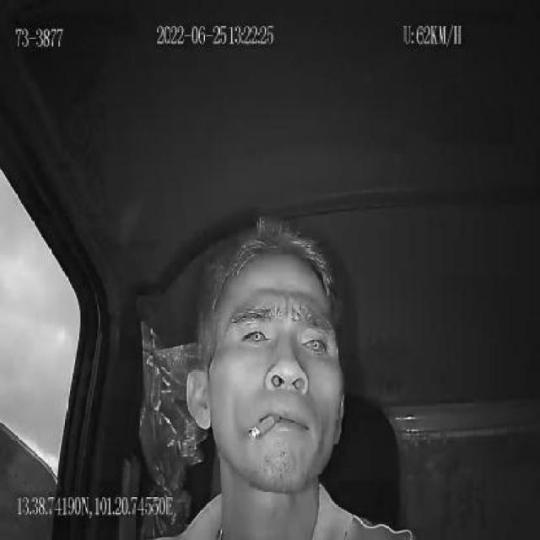smoking: (250, 413, 281, 445)
